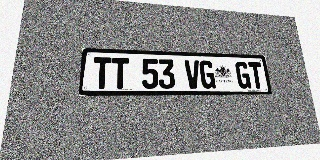3: (158, 59, 175, 89)
5: (142, 58, 159, 89)
G: (199, 60, 216, 89), (235, 61, 251, 89)
T: (92, 57, 111, 89), (111, 58, 129, 89), (248, 62, 265, 89)
V: (184, 60, 201, 89)
